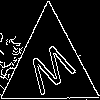W: (24, 41, 81, 100)
